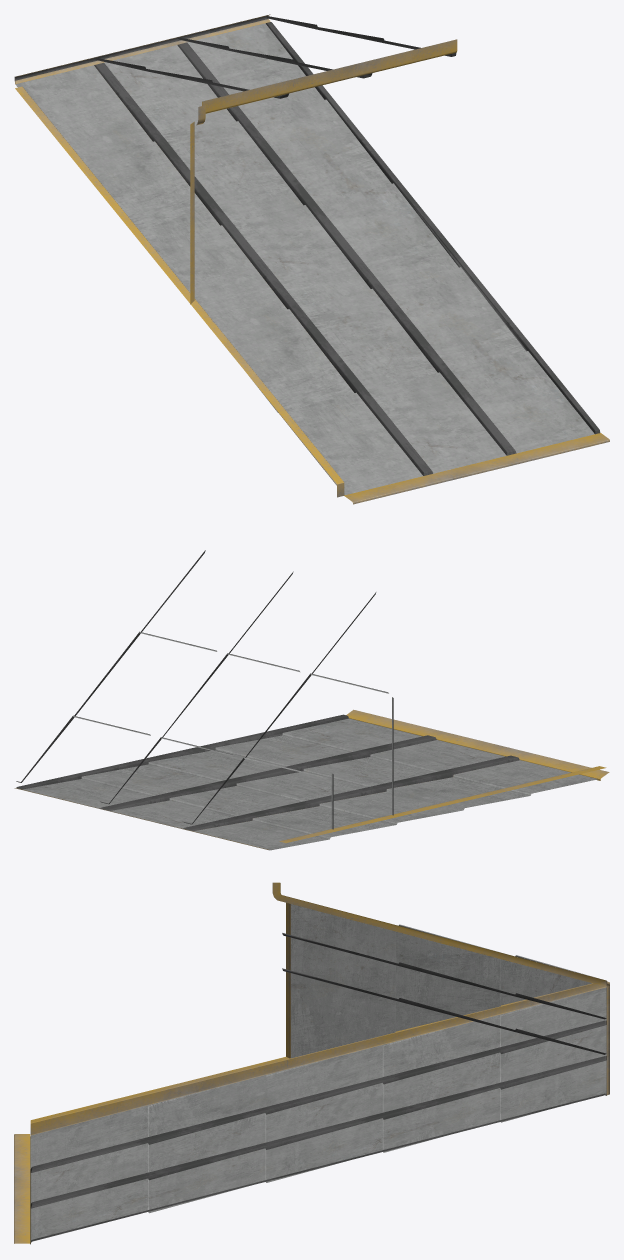
The model's file is SM_Bullet_Funnel_01a.glb.
3 renders of one model, top to bottom at view 1: azimuth 30°, elevation 25°; view 2: azimuth 150°, elevation 25°; view 3: azimuth 270°, elevation 25°, orthographic. The views are drawn at different scales.
Visible parts, largest first — view 1: SM_Bullet_Funnel_01a; view 2: SM_Bullet_Funnel_01a; view 3: SM_Bullet_Funnel_01a.
Part boxes in pixels (x1=…): SM_Bullet_Funnel_01a: x1=14, y1=14, x2=609, y2=504; SM_Bullet_Funnel_01a: x1=14, y1=550, x2=609, y2=850; SM_Bullet_Funnel_01a: x1=14, y1=882, x2=609, y2=1244.
Size of the model in its own units: 3.98 by 4.19 by 8.91.
Materials: 1 (1 with a texture image).
